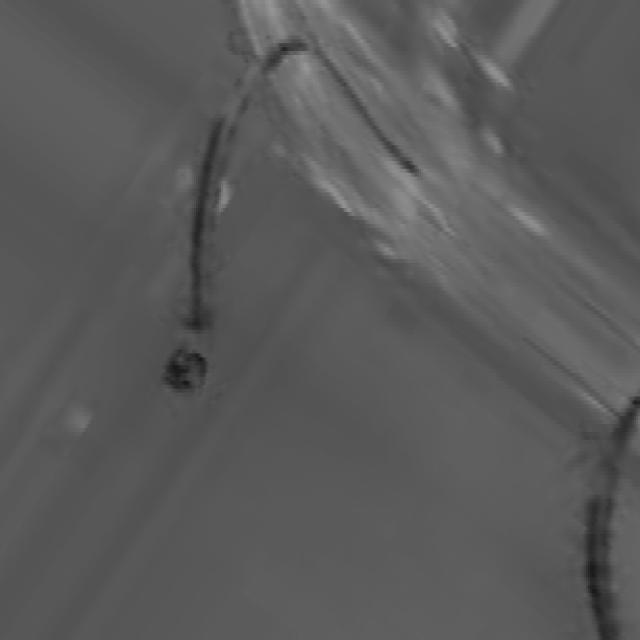larvas: (172, 28, 294, 390), (578, 383, 636, 640)
